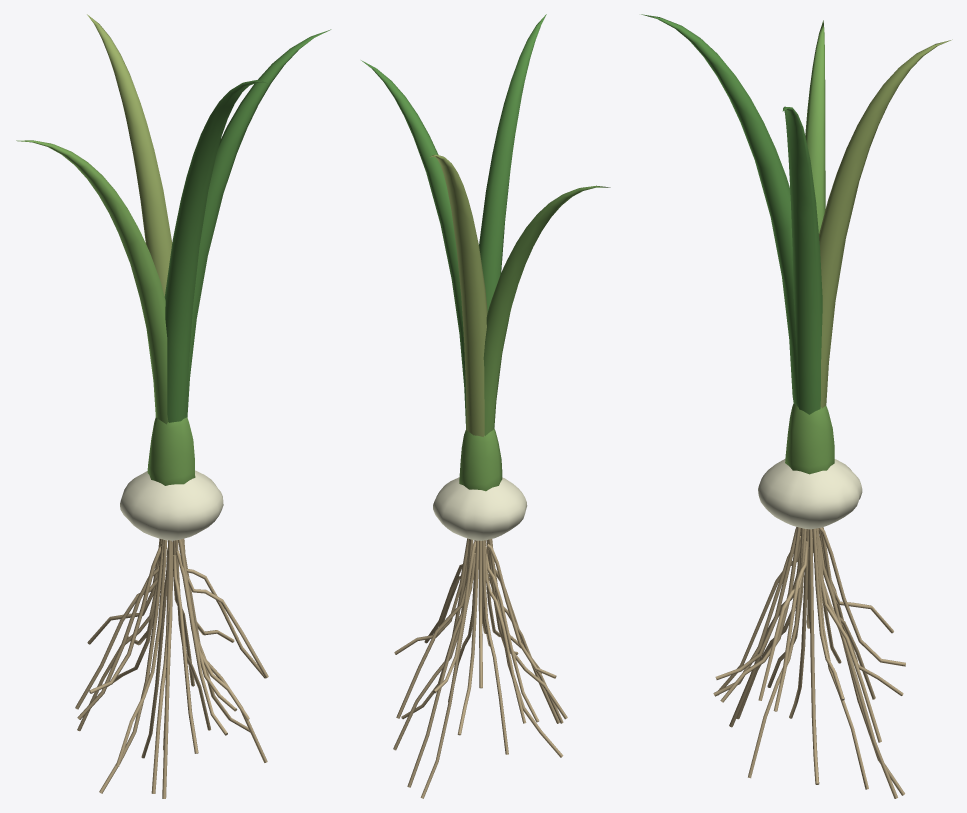
Rendered from onion_young.glb.
3 renders of one model, left to right at view 1: azimuth 30°, elevation 25°; view 2: azimuth 150°, elevation 25°; view 3: azimuth 270°, elevation 25°, orthographic. The views are drawn at different scales.
Parts seen in each view (by area): view 1: OwnerOnionYoung; view 2: OwnerOnionYoung; view 3: OwnerOnionYoung.
Part boxes in pixels (<box>): OwnerOnionYoung: <box>16,14,331,798</box>; OwnerOnionYoung: <box>361,14,610,798</box>; OwnerOnionYoung: <box>641,14,952,798</box>.
Size of the model in its own units: 0.4693 by 1.17 by 0.4254.
